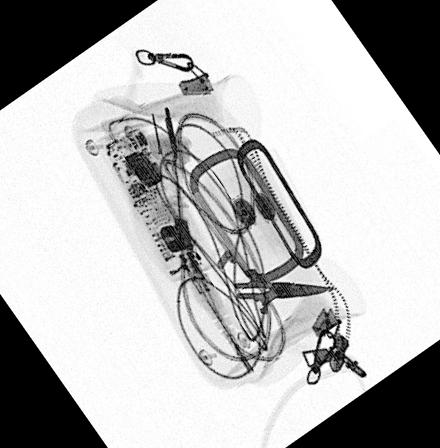Scissors: (208, 242, 339, 338)
